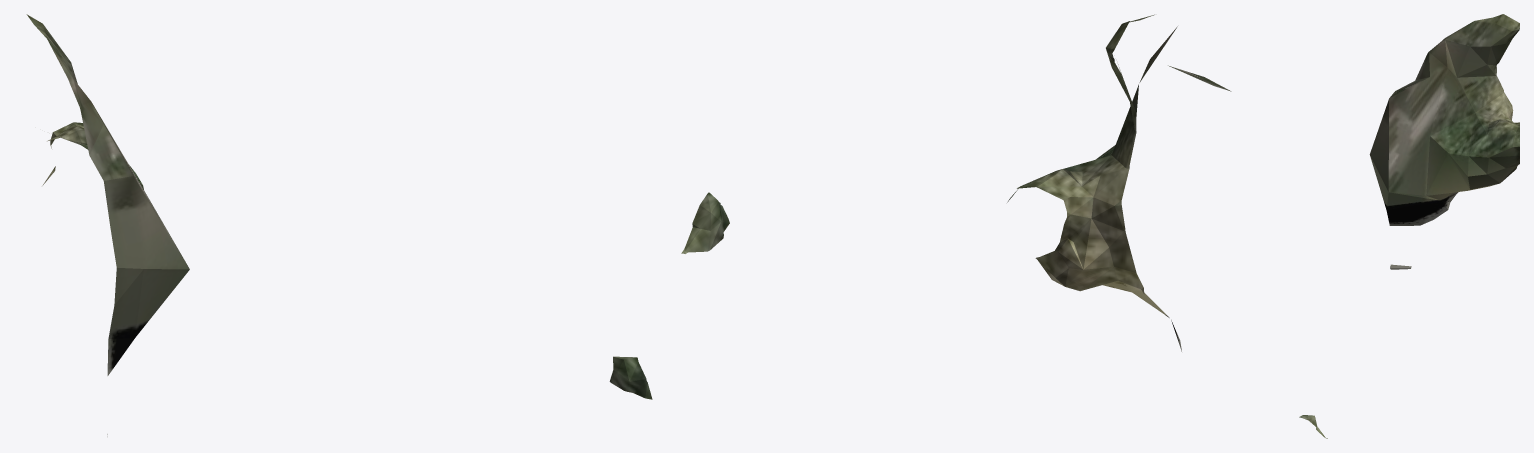
The picture shows the model from 3 angles, left to right: view 1: azimuth 30°, elevation 25°; view 2: azimuth 150°, elevation 25°; view 3: azimuth 270°, elevation 25°; orthographic projection. The views are drawn at different scales.
Size of the model in its own units: 11.8 by 9.24 by 7.61.
1 material, 1 textured.
